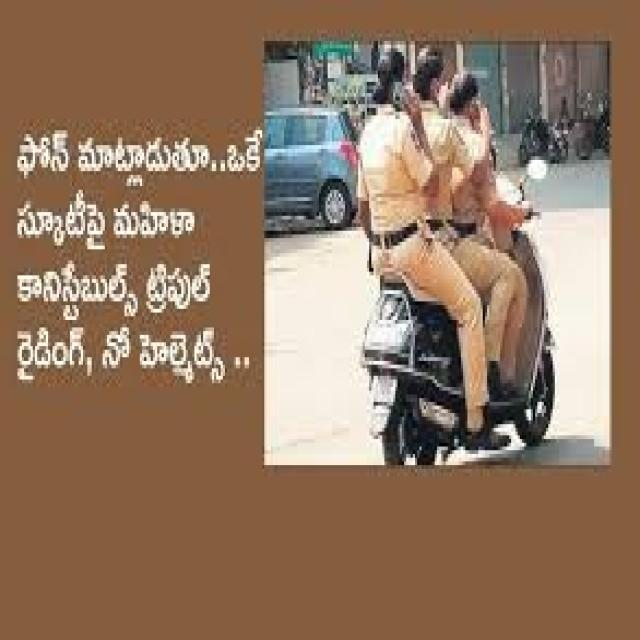Triple_riding: (344, 53, 533, 430)
